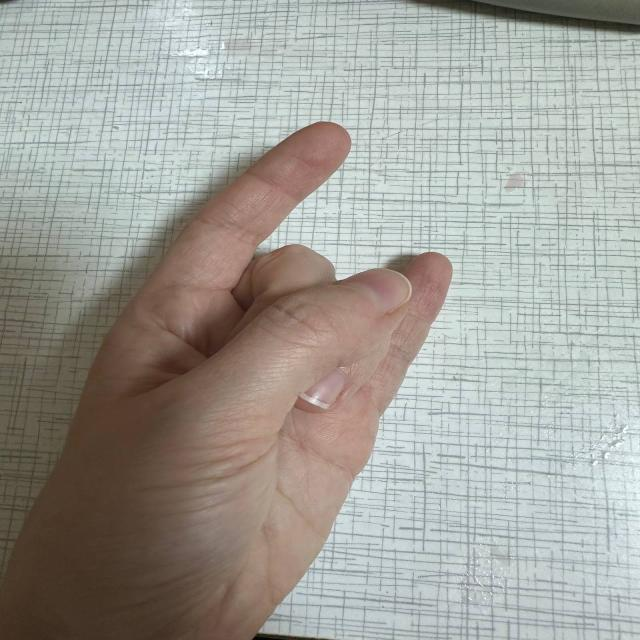y: (116, 114, 473, 554)
